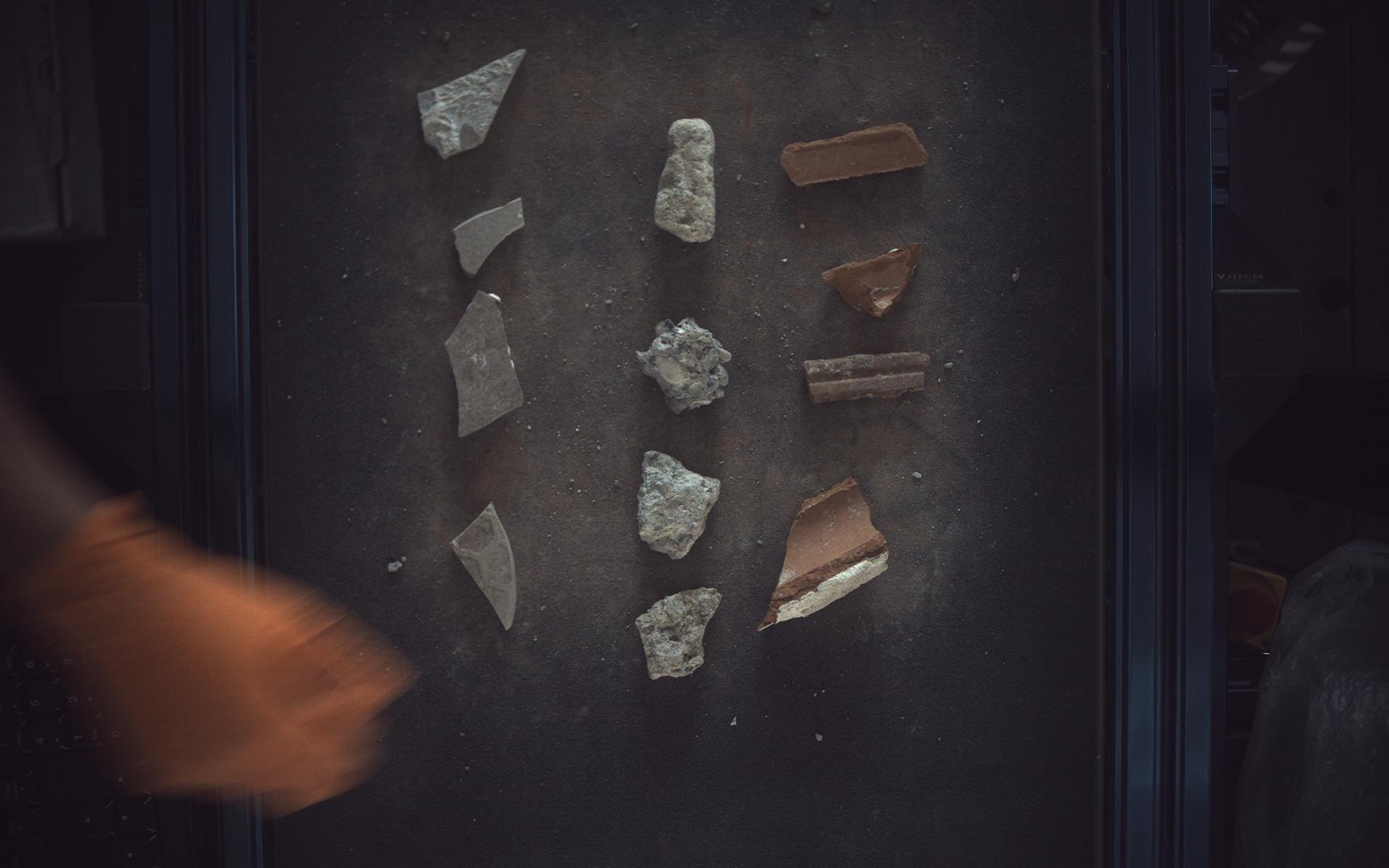brick: (760, 479, 891, 631), (782, 122, 930, 186), (823, 242, 925, 317), (805, 352, 932, 404)
concrete: (637, 318, 733, 414), (639, 451, 721, 560), (637, 588, 723, 681), (655, 118, 716, 242)
tile: (417, 48, 525, 158), (445, 290, 524, 437), (451, 503, 517, 631), (453, 197, 524, 276)
